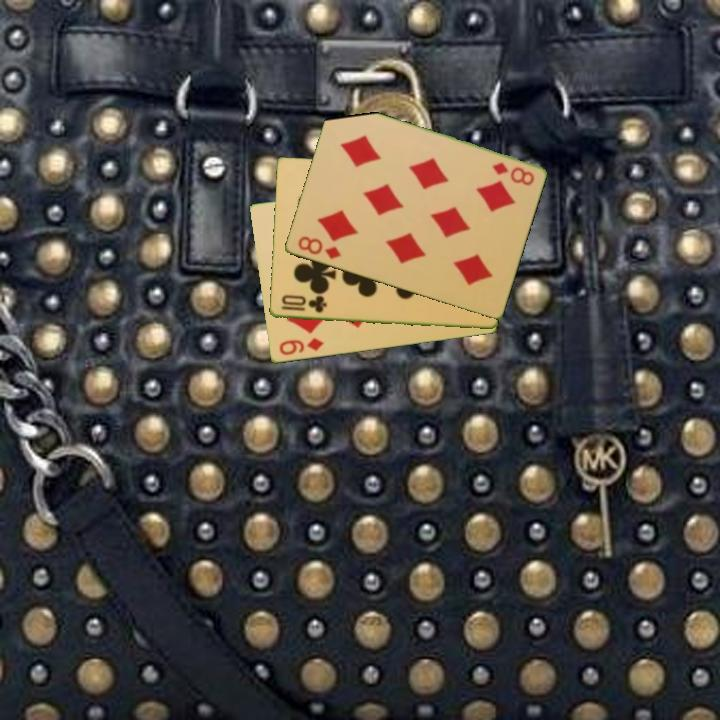10c: (277, 292, 329, 316)
8d: (294, 233, 344, 262), (488, 159, 537, 188)
9d: (276, 335, 326, 358)
